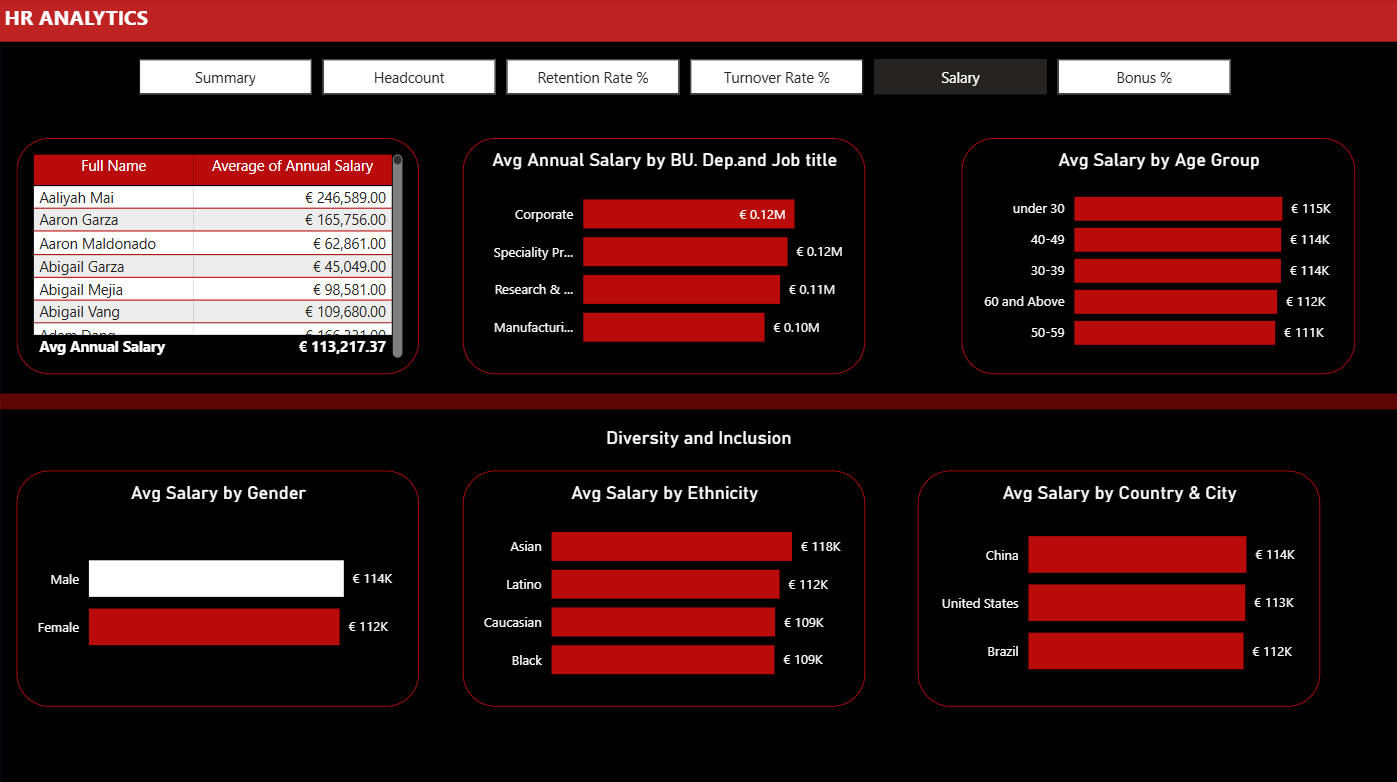

Layout of this report page (visuals, bound fields, positions):
{"tool":"powerbi","page":{"name":"Salary","canvas":[1280,720],"ordinal":4},"visuals":[{"type":"shape","box":[0,0,1280,720],"z":0},{"type":"shape","box":[0,0,1280,40],"z":1000},{"type":"textbox","box":[0,0,312,40],"z":2000},{"type":"clusteredBarChart","title":"Avg Annual Salary by BU. Dep.and Job title","fields":{"Category":["TBL_Employees.Business Unit","TBL_Employees.Department","TBL_Employees.Job Title"],"Y":["Avg(TBL_Employees.Annual Salary)"]},"box":[424,128,368,216],"z":3000},{"type":"actionButton","box":[0,360,1280,16],"z":4000},{"type":"shape","title":"Diversity and Inclusion","box":[544,392,192,24],"z":5000},{"type":"clusteredBarChart","title":"Avg Salary by Age Group","fields":{"Category":["TBL_Employees.Age Band"],"Y":["Avg(TBL_Employees.Annual Salary)"]},"box":[880,128,360,216],"z":6000},{"type":"tableEx","title":"Turn over Rate","fields":{"Values":["TBL_Employees.Full Name","Avg(TBL_Employees.Annual Salary)"]},"box":[16,128,368,216],"z":7000},{"type":"clusteredBarChart","title":"Avg Salary by Ethnicity","fields":{"Category":["TBL_Employees.Ethnicity"],"Y":["Avg(TBL_Employees.Annual Salary)"]},"box":[424,432,368,216],"z":8000},{"type":"clusteredBarChart","title":"Avg Salary by Country & City","fields":{"Category":["TBL_Employees.Country","TBL_Employees.City"],"Y":["Avg(TBL_Employees.Annual Salary)"]},"box":[840,432,368,216],"z":9000},{"type":"barChart","title":"Avg Salary by Gender","fields":{"Category":["TBL_Employees.Gender"],"Y":["Avg(TBL_Employees.Annual Salary)"]},"box":[16,432,368,216],"z":10000},{"type":"pageNavigator","box":[128,56,1000,32],"z":11000}]}

Visuals, with their boxes in screenshot pixels (x1, y1, x2, y2), scaled from the page's 1280x720 canvas onto the 1397x782 screenshot:
shape: (x1=0, y1=0, x2=1396, y2=781)
shape: (x1=0, y1=0, x2=1396, y2=43)
textbox: (x1=0, y1=0, x2=341, y2=43)
"Avg Annual Salary by BU. Dep.and Job title" clusteredBarChart: (x1=463, y1=139, x2=864, y2=374)
actionButton: (x1=0, y1=391, x2=1396, y2=408)
"Diversity and Inclusion" shape: (x1=594, y1=426, x2=803, y2=452)
"Avg Salary by Age Group" clusteredBarChart: (x1=960, y1=139, x2=1353, y2=374)
"Turn over Rate" tableEx: (x1=17, y1=139, x2=419, y2=374)
"Avg Salary by Ethnicity" clusteredBarChart: (x1=463, y1=469, x2=864, y2=704)
"Avg Salary by Country & City" clusteredBarChart: (x1=917, y1=469, x2=1318, y2=704)
"Avg Salary by Gender" barChart: (x1=17, y1=469, x2=419, y2=704)
pageNavigator: (x1=140, y1=61, x2=1231, y2=96)
